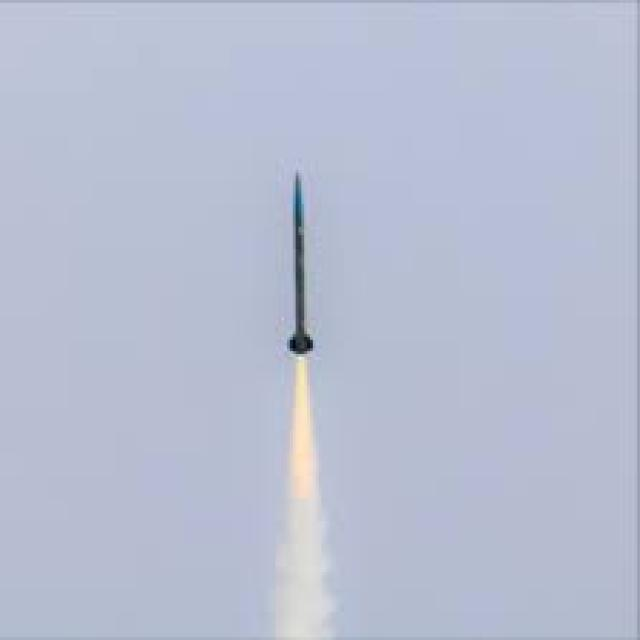Rocket: (281, 166, 320, 361)
